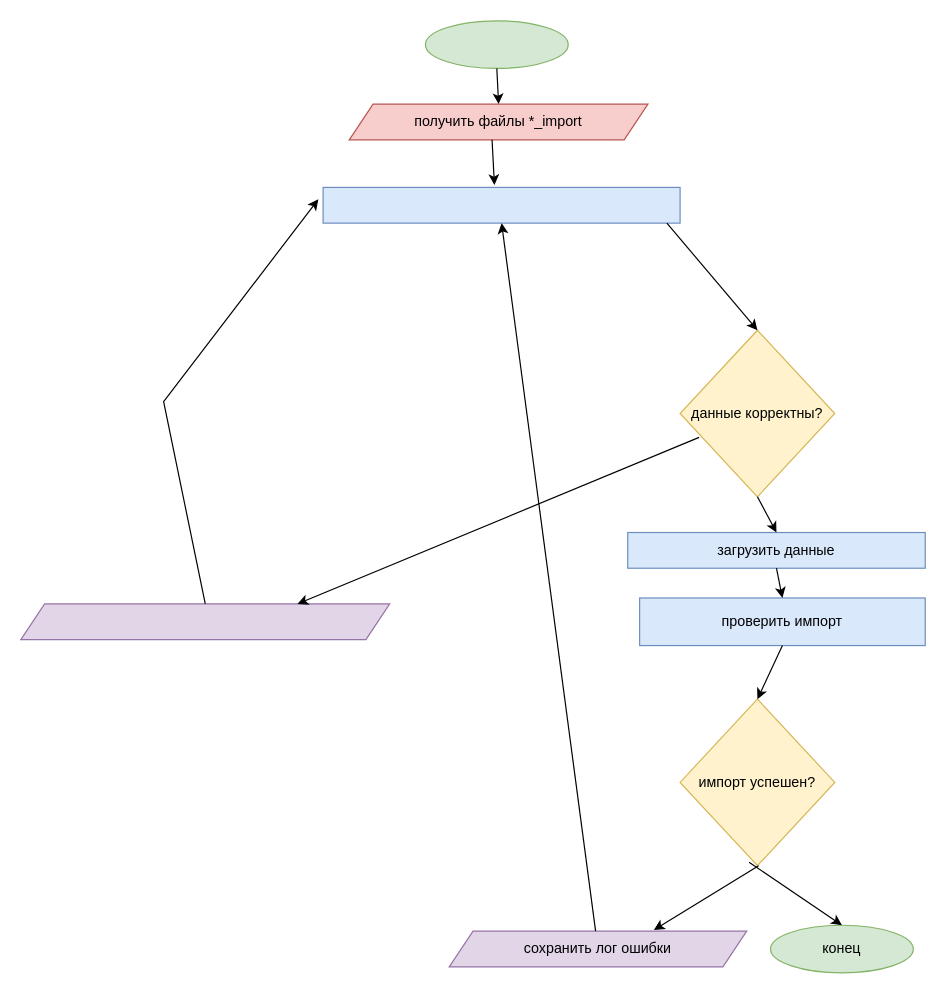
Some shapes in this 946 by 994 pixel diagram are drawn without their labels. The centre of each missing label's shape, as x and y in pixels:
"Начало" belongs at point (496, 44).
"показать / записать ошибку" belongs at point (205, 621).
"проверить кадировку, обязательные поля и связи" belongs at point (501, 204).
